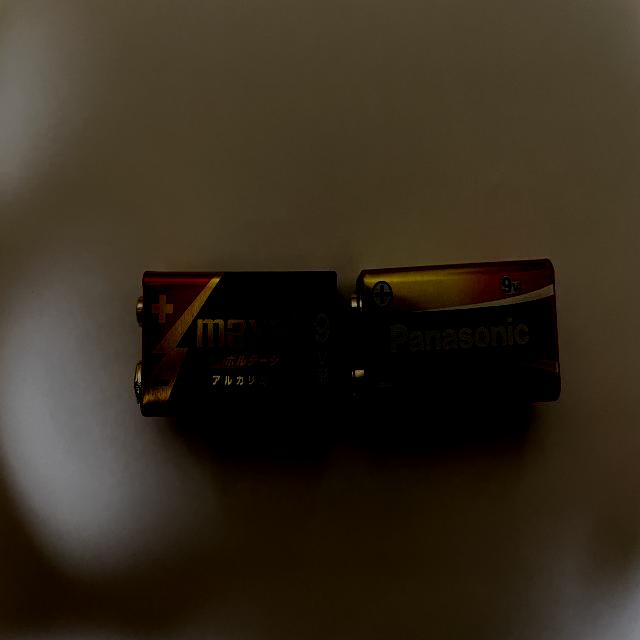9V: (349, 258, 563, 411), (132, 268, 339, 415)
